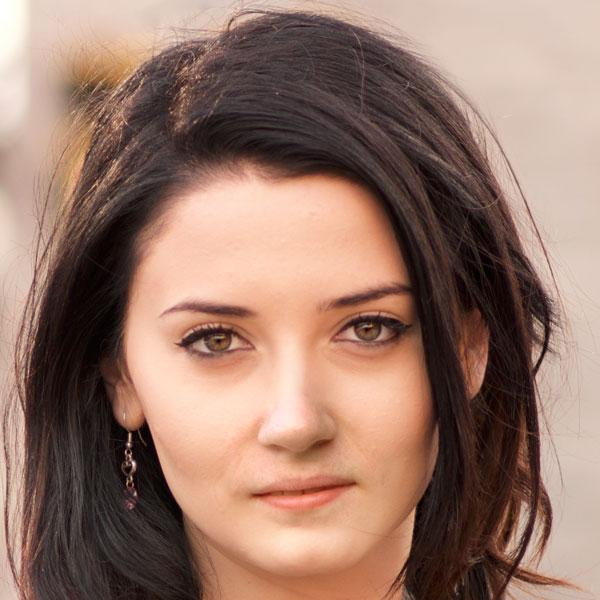Eyes: (319, 305, 418, 361), (167, 315, 263, 370)
